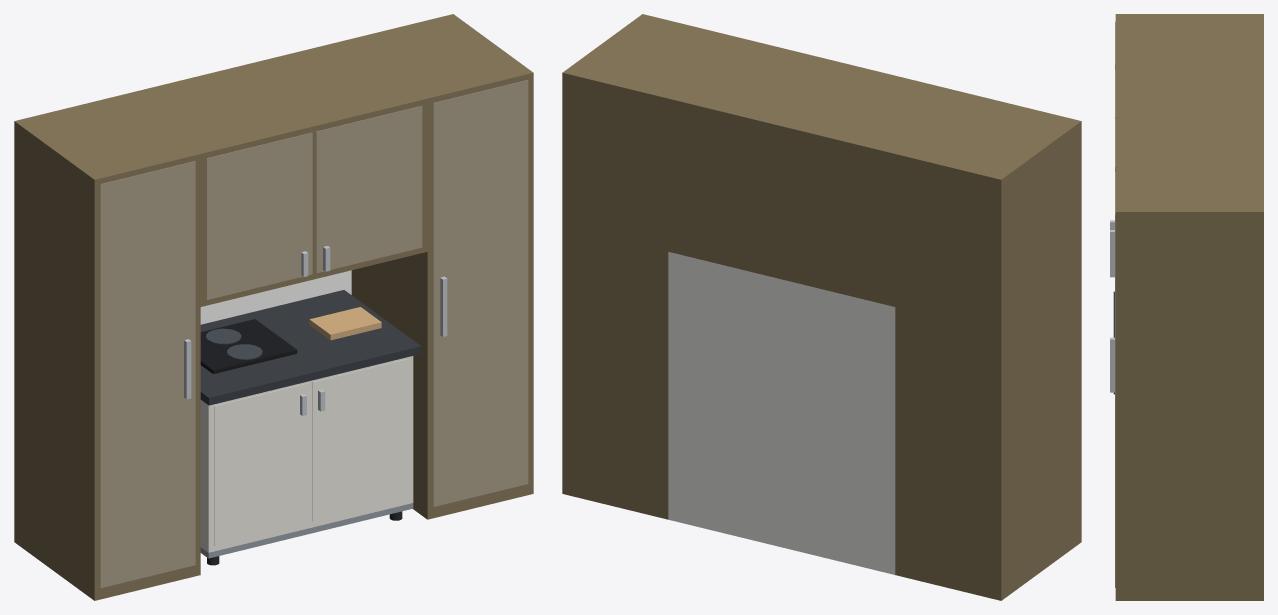
Rendered from movable_island_wall.glb.
The picture shows the model from 3 angles, left to right: view 1: azimuth 30°, elevation 25°; view 2: azimuth 150°, elevation 25°; view 3: azimuth 270°, elevation 25°; orthographic projection. The views are drawn at different scales.
Parts seen in each view (by area): view 1: movable_island_wall_Body; view 2: movable_island_wall_Body; view 3: movable_island_wall_Body.
Boxes of the visible parts, x1,y1,x2,y2 form: movable_island_wall_Body: (14, 14, 533, 600); movable_island_wall_Body: (562, 14, 1081, 600); movable_island_wall_Body: (1110, 14, 1263, 600).
Size of the model in its own units: 2.4 by 2.2 by 0.788.
